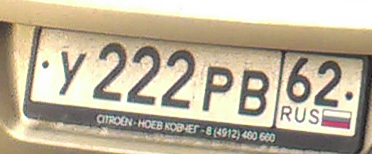character: (163, 45, 197, 112), (129, 42, 161, 108), (93, 42, 127, 104), (200, 64, 234, 120), (237, 67, 271, 121), (56, 49, 90, 100), (285, 54, 313, 107), (315, 59, 342, 109)
